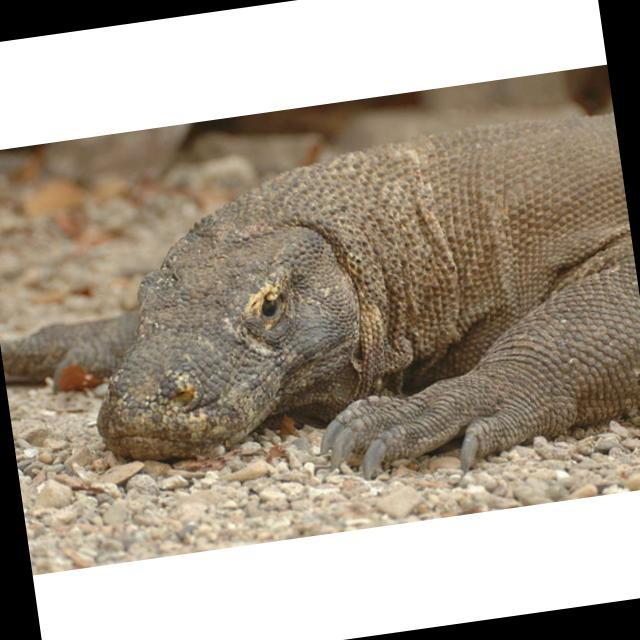KomodoDragon: (0, 109, 640, 546)
